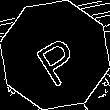P_NW: (26, 24, 84, 86)
